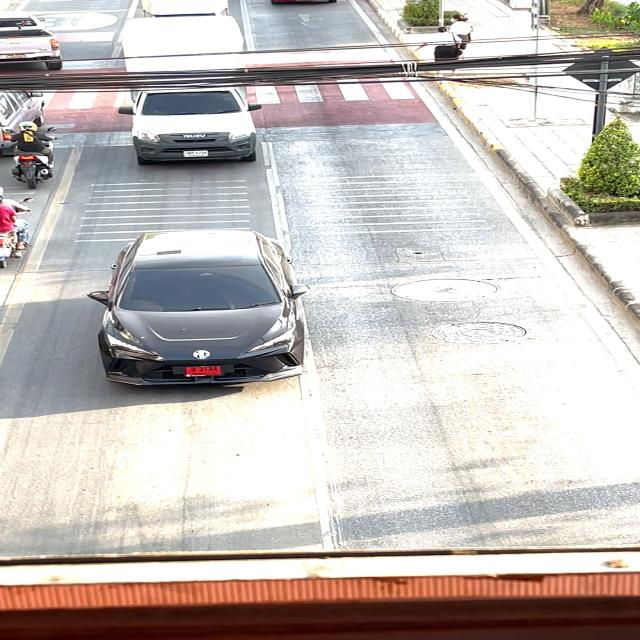car: (48, 208, 345, 406), (104, 80, 279, 180)
